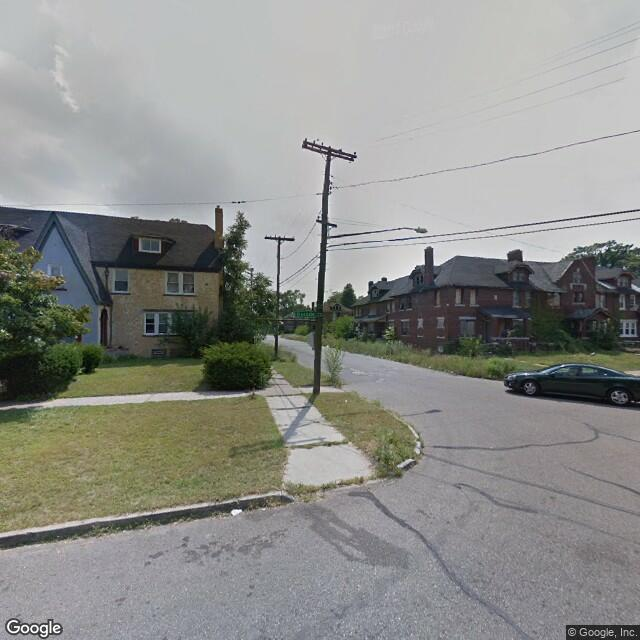litter: (228, 509, 248, 518)
